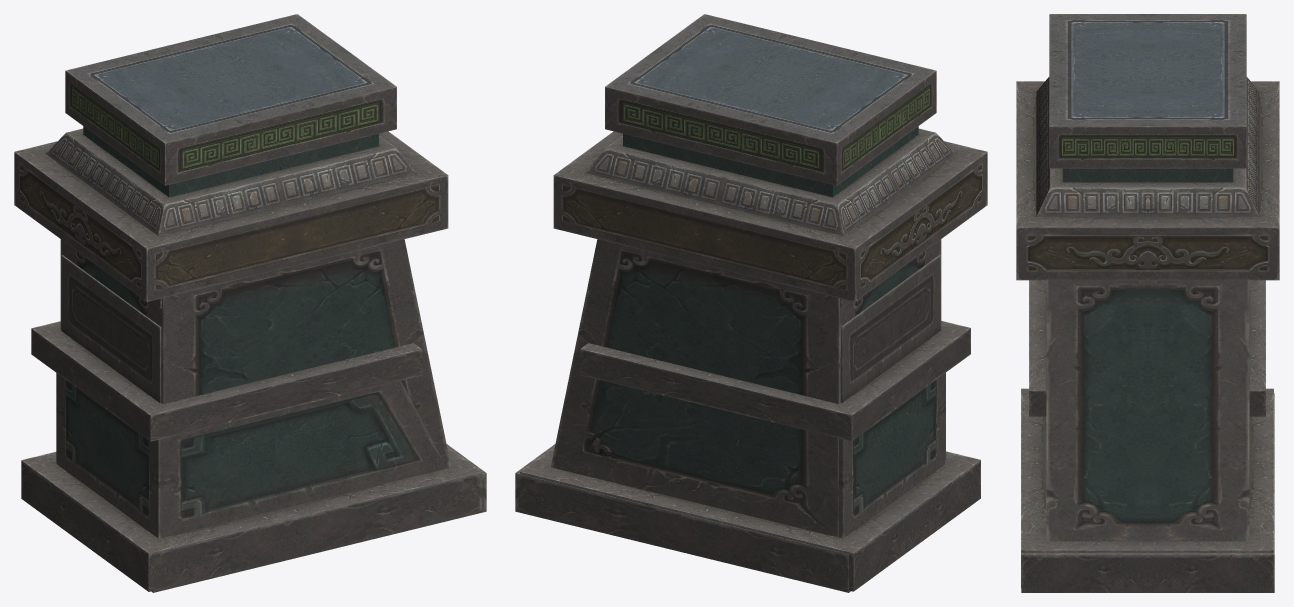
File: tai_zi_001.FBX
3 renders of one model, left to right at view 1: azimuth 30°, elevation 25°; view 2: azimuth 150°, elevation 25°; view 3: azimuth 270°, elevation 25°, orthographic.
Visible parts, largest first — view 1: tai_zi_001_a01, tai_zi_001_a02; view 2: tai_zi_001_a01, tai_zi_001_a02; view 3: tai_zi_001_a01, tai_zi_001_a02.
Boxes of the visible parts, x1,y1,x2,y2 form: tai_zi_001_a01: (14, 14, 486, 592); tai_zi_001_a02: (21, 255, 482, 591); tai_zi_001_a01: (515, 14, 987, 592); tai_zi_001_a02: (520, 255, 980, 591); tai_zi_001_a01: (1016, 14, 1279, 592); tai_zi_001_a02: (1021, 280, 1273, 587).
Bounding box in the file's own units: 697 × 842 × 467.
1 material, 1 textured.
